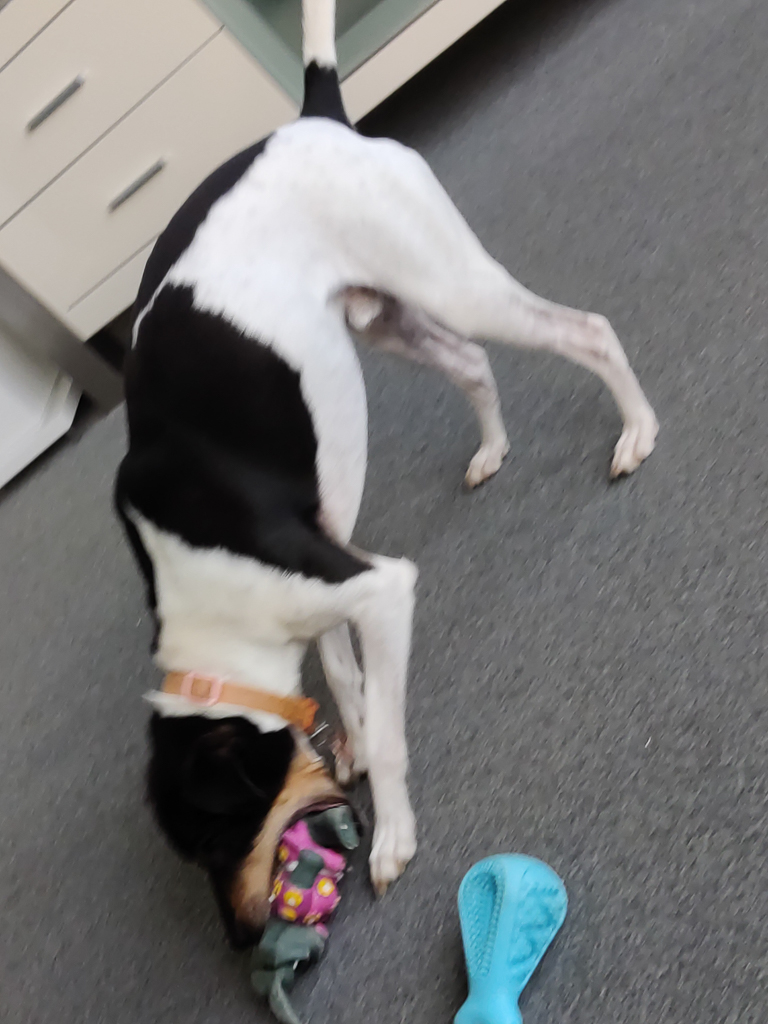Dog: (84, 0, 659, 973)
Humanoid: (225, 793, 381, 1024)
